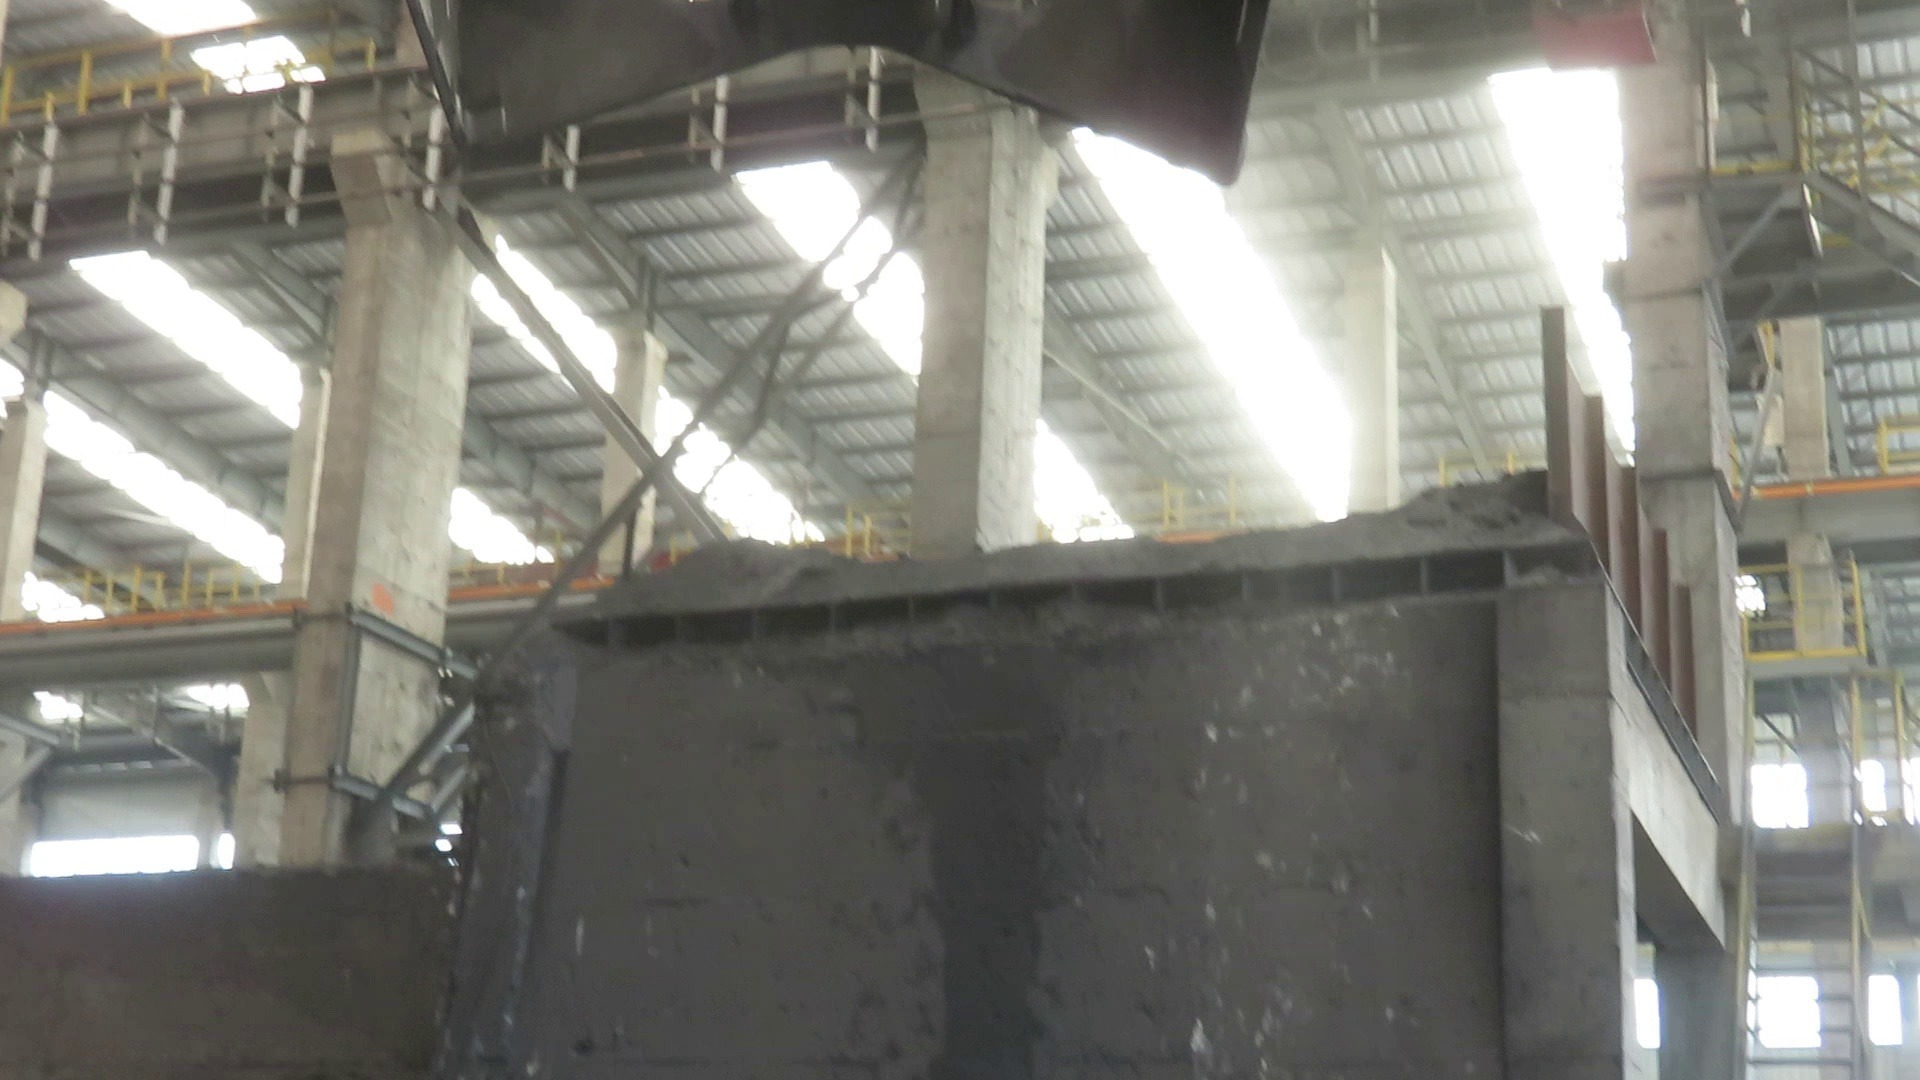grab: (401, 0, 1269, 193)
